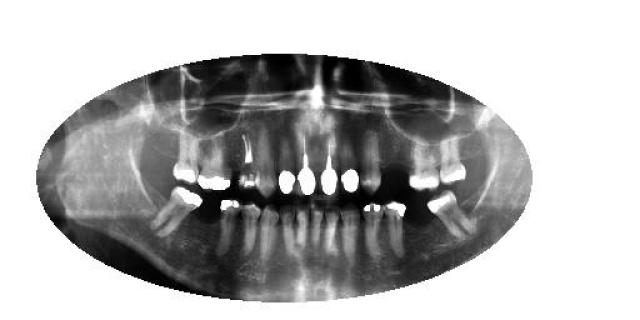Fillings: (150, 185, 204, 239), (196, 134, 235, 194), (427, 190, 472, 240), (409, 139, 440, 190), (383, 199, 408, 260), (440, 137, 468, 185), (174, 128, 198, 182), (219, 198, 241, 256), (276, 135, 296, 196), (340, 136, 361, 194), (365, 202, 384, 260)
Implant: (295, 131, 317, 199), (320, 138, 339, 196)
